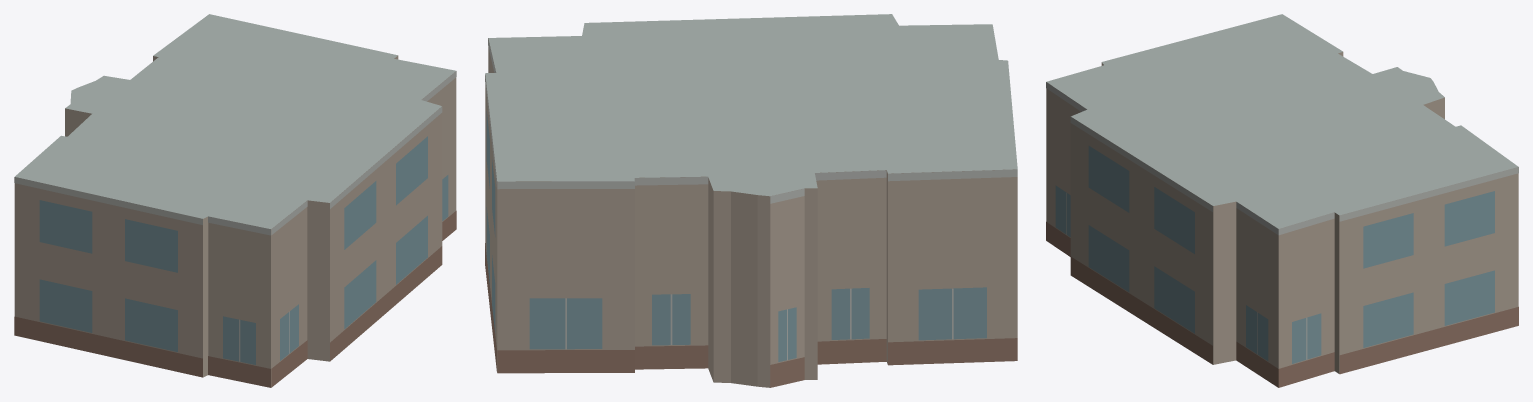
Rendered from survey-upis-32624907.glb.
3 renders of one model, left to right at view 1: azimuth 30°, elevation 25°; view 2: azimuth 150°, elevation 25°; view 3: azimuth 270°, elevation 25°, orthographic. The views are drawn at different scales.
Visible parts, largest first — view 1: survey-upis-32624907.tmp; view 2: survey-upis-32624907.tmp; view 3: survey-upis-32624907.tmp.
Boxes of the visible parts, left/top/right/bottom form: survey-upis-32624907.tmp: left=14, top=14, right=456, bottom=387; survey-upis-32624907.tmp: left=485, top=14, right=1017, bottom=387; survey-upis-32624907.tmp: left=1046, top=14, right=1518, bottom=387.
Bounding box in the file's own units: 17.72 × 6.1 × 16.46.
